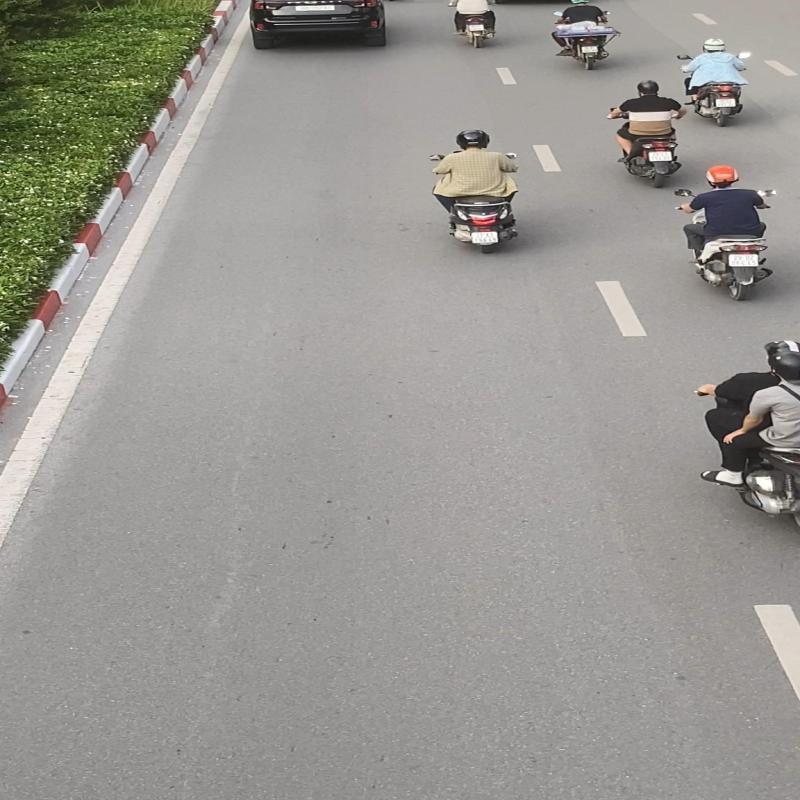helmet: (454, 127, 493, 150), (704, 164, 740, 187)
licenseplate: (726, 252, 762, 268), (470, 231, 502, 244)
motorcyclist: (670, 164, 781, 302), (424, 127, 530, 256)
